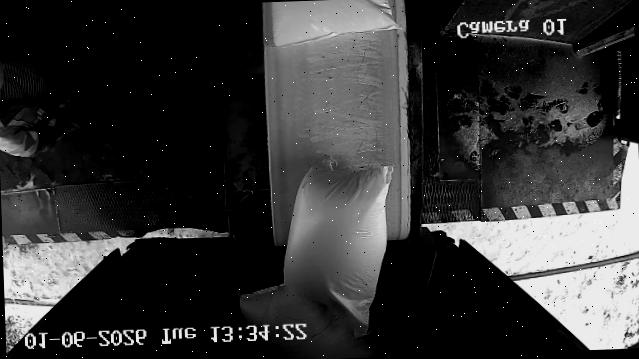bag: (280, 158, 401, 337), (238, 279, 393, 359), (270, 0, 402, 49)
